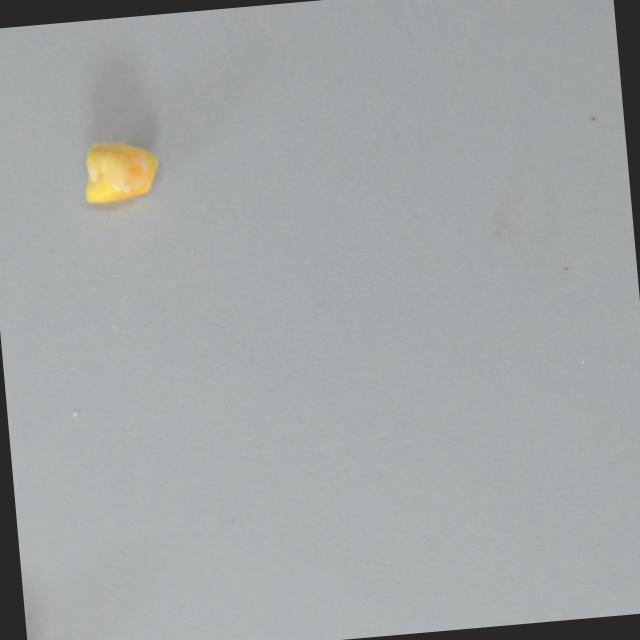pelicula: (81, 135, 162, 204)
